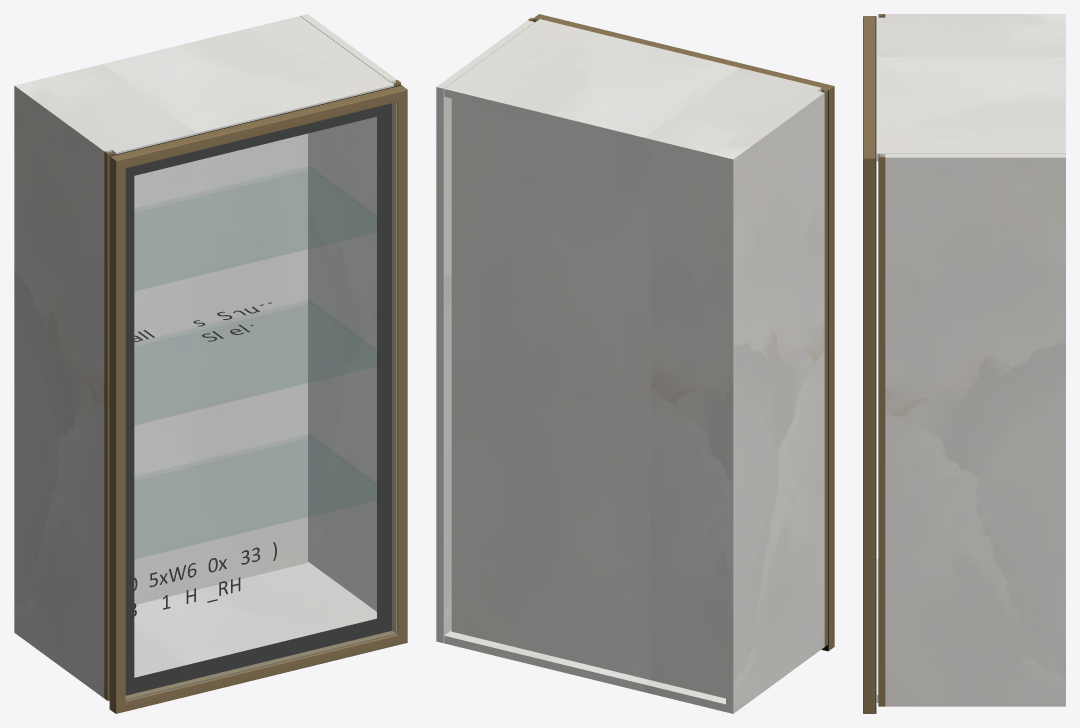
The model's file is WC-SH-NHX-GL-3SG-RHS-XXX-600-1085-336-15.glb.
The picture shows the model from 3 angles, left to right: view 1: azimuth 30°, elevation 25°; view 2: azimuth 150°, elevation 25°; view 3: azimuth 270°, elevation 25°; orthographic projection.
Parts seen in each view (by area): view 1: Object_node_10, TP_node_2, TP_node_0, TP_node_1, Neon 22 Profile ALU PROF NEON 20 L21XH22.5MM 3MTR S2/405 SEC (×4), TP, Object_node_12, TP_node, Object_node_14, 2D text_node; view 2: TP_node_2, TP_node_0, TP, TP_node_1, Neon 22 Profile ALU PROF NEON 20 L21XH22.5MM 3MTR S2/405 SEC (×2), TP_node, Object_node_14; view 3: TP_node_1, TP, Neon 22 Profile ALU PROF NEON 20 L21XH22.5MM 3MTR S2/405 SEC (×2), Object_node_20, Object_node_12, TP_node_0, TP_node.
Part boxes in pixels (bbox=[...]): Object_node_10: bbox=[126, 102, 397, 700]; TP_node_2: bbox=[134, 133, 307, 604]; TP_node_0: bbox=[14, 84, 111, 697]; TP_node_1: bbox=[300, 14, 397, 611]; Neon 22 Profile ALU PROF NEON 20 L21XH22.5MM 3MTR S2/405 SEC (×4): bbox=[110, 85, 407, 713]; TP: bbox=[22, 16, 393, 154]; Object_node_12: bbox=[109, 85, 401, 709]; TP_node: bbox=[134, 562, 376, 677]; Object_node_14: bbox=[104, 151, 113, 700]; 2D text_node: bbox=[134, 542, 276, 590]; TP_node_2: bbox=[451, 98, 725, 698]; TP_node_0: bbox=[726, 91, 824, 713]; TP: bbox=[444, 19, 821, 165]; TP_node_1: bbox=[436, 20, 534, 643]; Neon 22 Profile ALU PROF NEON 20 L21XH22.5MM 3MTR S2/405 SEC (×2): bbox=[533, 14, 834, 650]; TP_node: bbox=[444, 630, 725, 711]; Object_node_14: bbox=[821, 89, 827, 646]; TP_node_1: bbox=[885, 154, 1065, 706]; TP: bbox=[876, 17, 1065, 161]; Neon 22 Profile ALU PROF NEON 20 L21XH22.5MM 3MTR S2/405 SEC (×2): bbox=[863, 16, 875, 713]; Object_node_20: bbox=[878, 154, 885, 706]; Object_node_12: bbox=[875, 16, 876, 713]; TP_node_0: bbox=[885, 14, 1065, 17]; TP_node: bbox=[876, 559, 878, 702].
Size of what is drawn, in the model's own units: 0.6 by 1.09 by 0.358.
Materials: 7 (1 with a texture image).
